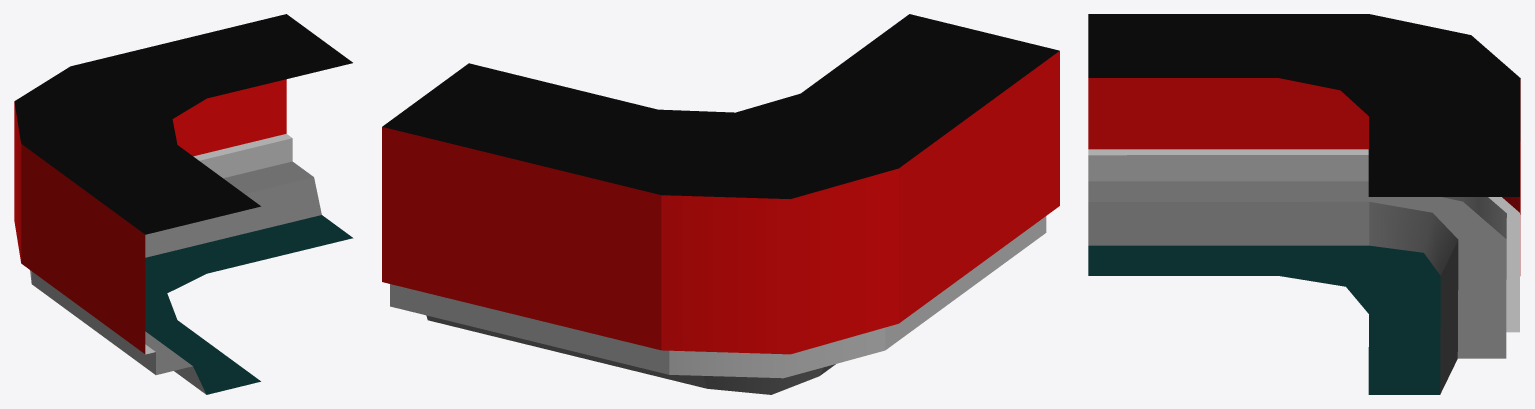
The model's file is curva_extrena.fbx.
3 views of the same model, side by side, from view 1: azimuth 30°, elevation 25°; view 2: azimuth 150°, elevation 25°; view 3: azimuth 270°, elevation 25° (orthographic). The views are drawn at different scales.
Visible parts, largest first — view 1: pieza_curva_externa; view 2: pieza_curva_externa; view 3: pieza_curva_externa.
Part boxes in pixels (x1,y1,x2,y2): pieza_curva_externa: (14, 14, 353, 394); pieza_curva_externa: (382, 14, 1059, 394); pieza_curva_externa: (1088, 14, 1520, 394).
Size of the model in its own units: 74.96 by 37.79 by 74.76.
